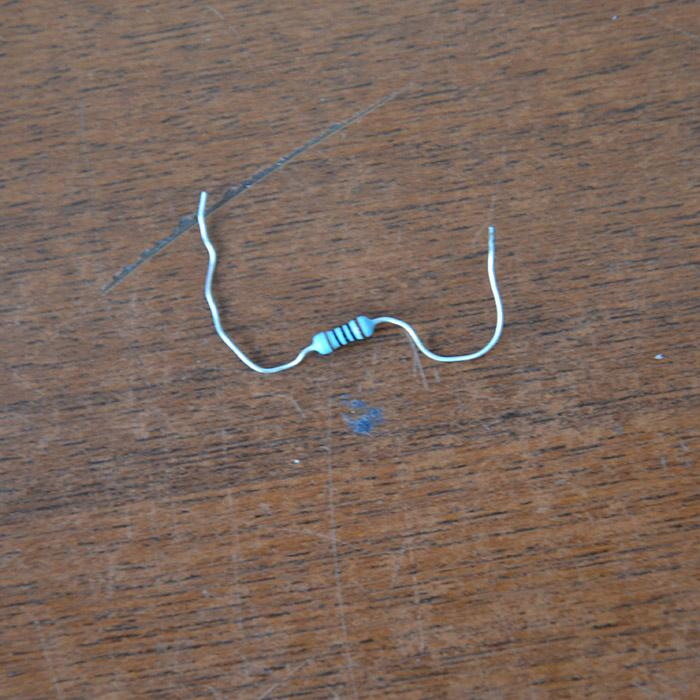resistor: (309, 316, 375, 356)
